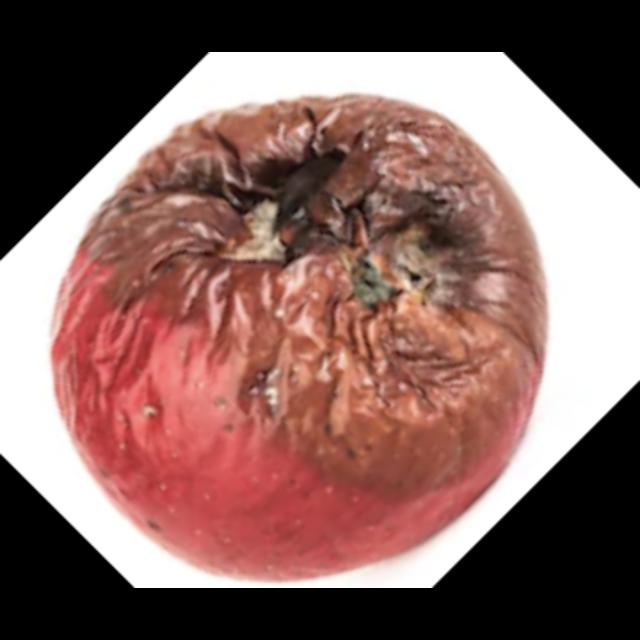Apel Tidak Segar: (42, 85, 558, 589)
